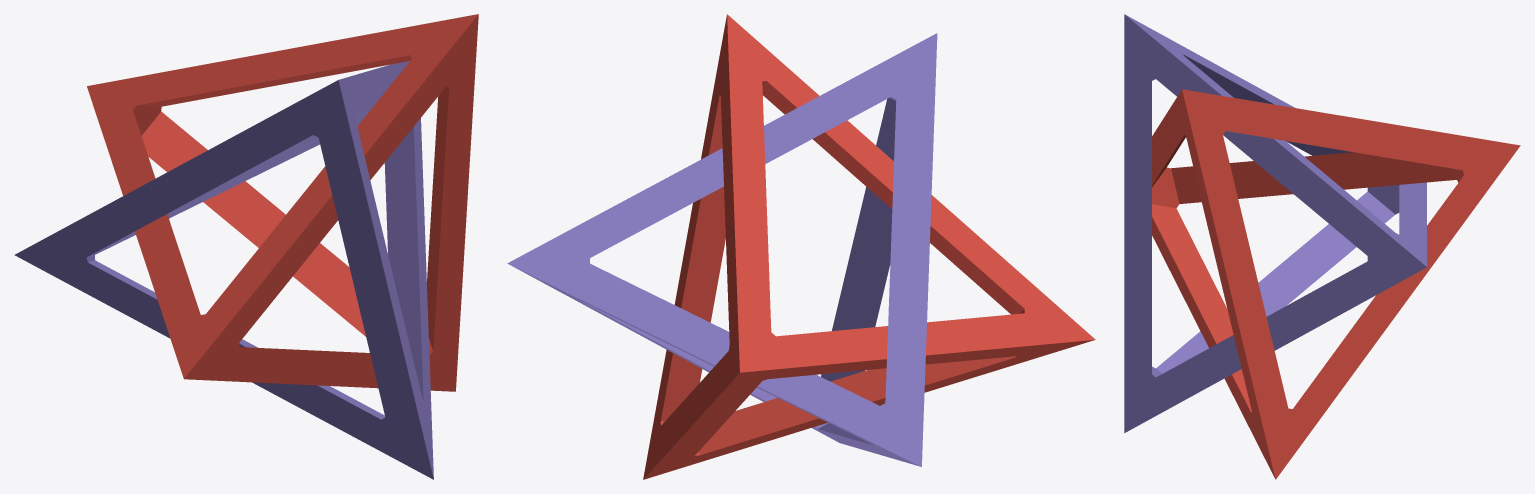
Rendered from fit-2.glb.
The picture shows the model from 3 angles, left to right: view 1: azimuth 30°, elevation 25°; view 2: azimuth 150°, elevation 25°; view 3: azimuth 270°, elevation 25°; orthographic projection. The views are drawn at different scales.
Parts seen in each view (by area): view 1: fit.005, fit.001; view 2: fit.005, fit.001; view 3: fit.005, fit.001.
Boxes of the visible parts, <box> form: fit.005: <box>87,14,478,391</box>; fit.001: <box>14,61,433,479</box>; fit.005: <box>643,14,1095,479</box>; fit.001: <box>507,33,937,466</box>; fit.005: <box>1152,89,1520,479</box>; fit.001: <box>1124,14,1426,432</box>.
Size of the model in its own units: 4.87 by 4.87 by 4.63.
